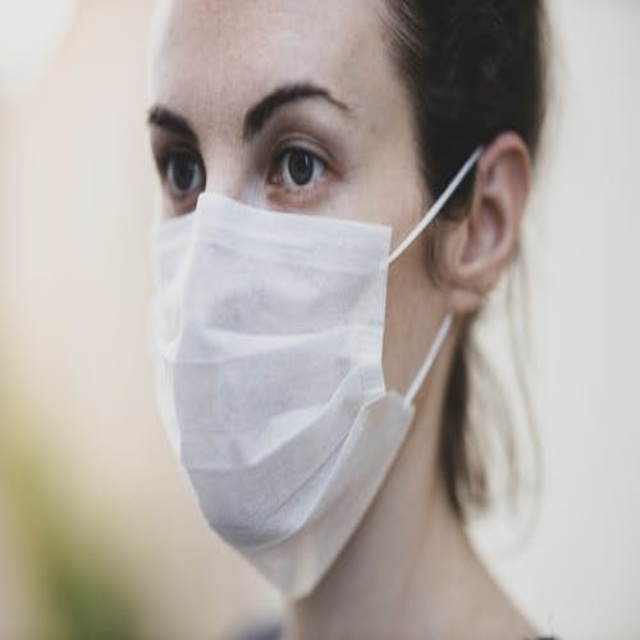Mascara: (153, 144, 484, 603)
Sin_gafas: (146, 62, 408, 215)
